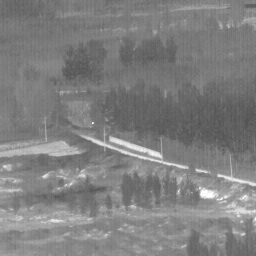aircraft: (92, 122, 94, 124)
